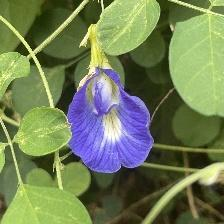shankupushpam: (65, 62, 157, 176)
